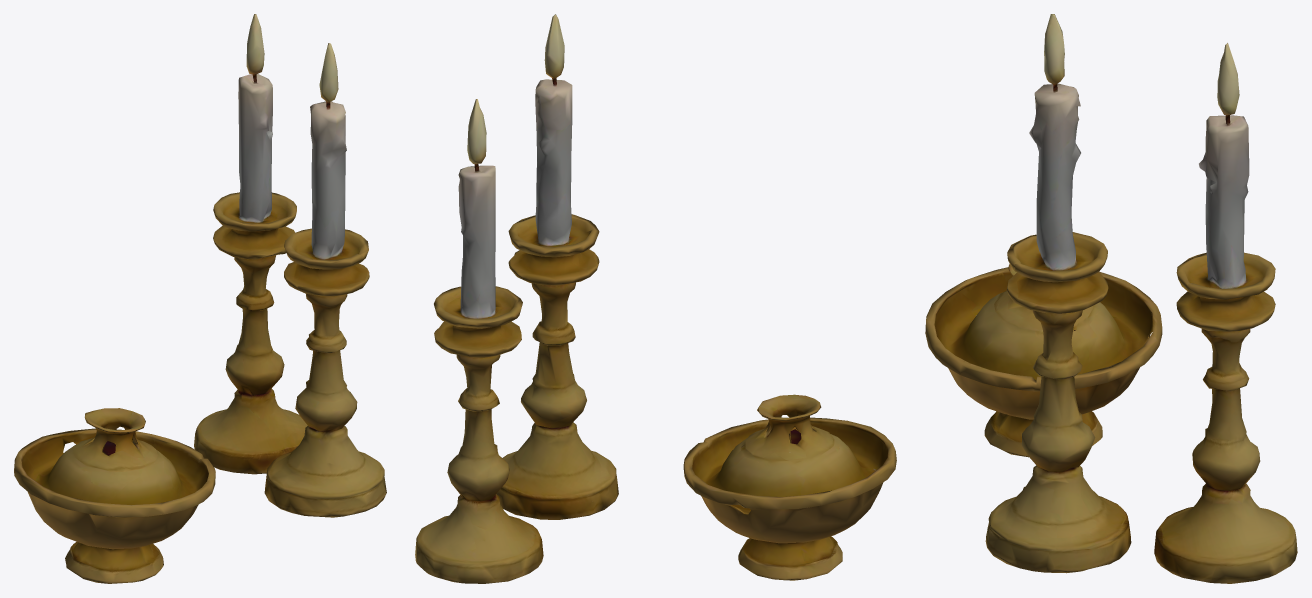
File: candles.glb
3 renders of one model, left to right at view 1: azimuth 30°, elevation 25°; view 2: azimuth 150°, elevation 25°; view 3: azimuth 270°, elevation 25°, orthographic. The views are drawn at different scales.
Visible parts, largest first — view 1: tripo_node_ee904c46-0c0d-49bc-9727-5eb797956a5d; view 2: tripo_node_ee904c46-0c0d-49bc-9727-5eb797956a5d; view 3: tripo_node_ee904c46-0c0d-49bc-9727-5eb797956a5d.
Boxes of the visible parts, x1,y1,x2,y2 form: tripo_node_ee904c46-0c0d-49bc-9727-5eb797956a5d: [14, 14, 386, 583]; tripo_node_ee904c46-0c0d-49bc-9727-5eb797956a5d: [415, 14, 896, 583]; tripo_node_ee904c46-0c0d-49bc-9727-5eb797956a5d: [925, 14, 1297, 583].
Bounding box in the file's own units: 0.2823 × 0.35 × 0.2161.
1 material, 1 textured.
